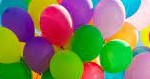Balloon: (40, 4, 71, 46), (94, 1, 125, 39), (2, 7, 36, 40), (71, 26, 102, 61), (23, 37, 53, 73), (100, 40, 132, 71), (50, 50, 84, 79), (1, 27, 21, 65)
